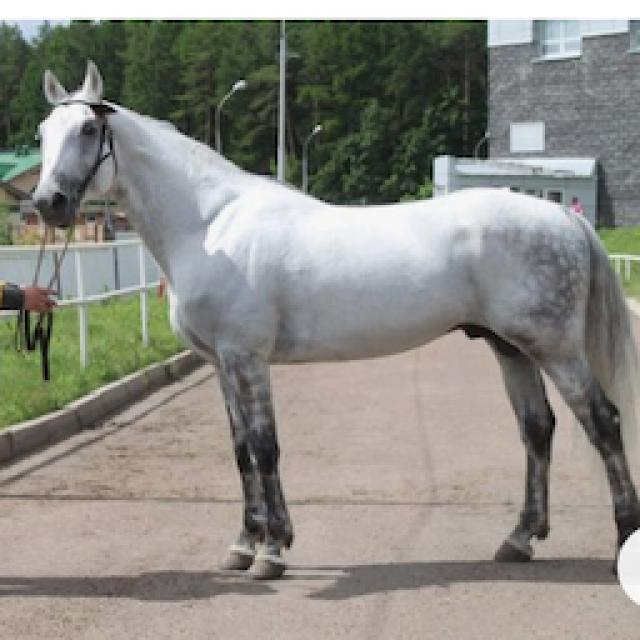Horse: (25, 55, 638, 585)
